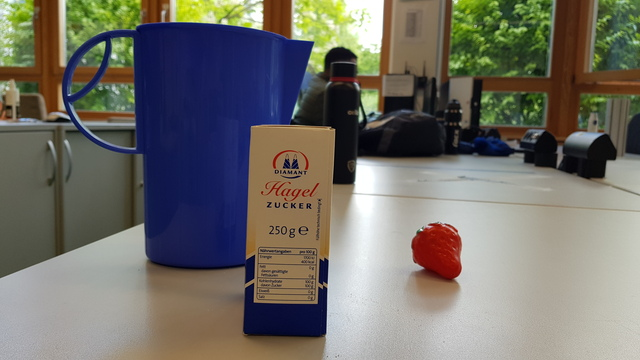004_sugar_box: (242, 124, 337, 339)
012_strawberry: (412, 222, 463, 281)
019_pitcher_base: (63, 23, 316, 272)
